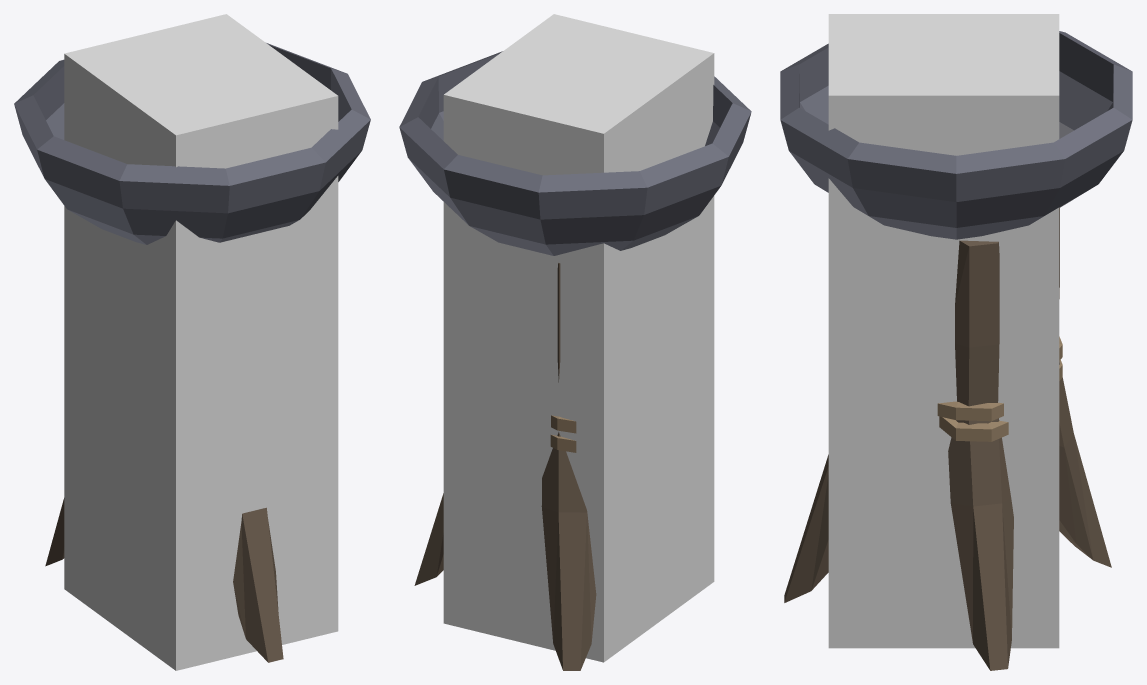
File: brazier_1.glb
The picture shows the model from 3 angles, left to right: view 1: azimuth 30°, elevation 25°; view 2: azimuth 150°, elevation 25°; view 3: azimuth 270°, elevation 25°; orthographic projection. The views are drawn at different scales.
Parts seen in each view (by area): view 1: Cube.002, BRAZIER_01; view 2: Cube.002, BRAZIER_01; view 3: Cube.002, BRAZIER_01.
Boxes of the visible parts, x1,y1,x2,y2 form: Cube.002: (64, 14, 338, 670); BRAZIER_01: (14, 43, 370, 662); Cube.002: (443, 14, 714, 662); BRAZIER_01: (399, 51, 751, 670); Cube.002: (828, 14, 1059, 648); BRAZIER_01: (780, 31, 1132, 670).
Size of the model in its own units: 1.38 by 2.27 by 1.31.
1 material, 1 textured.
